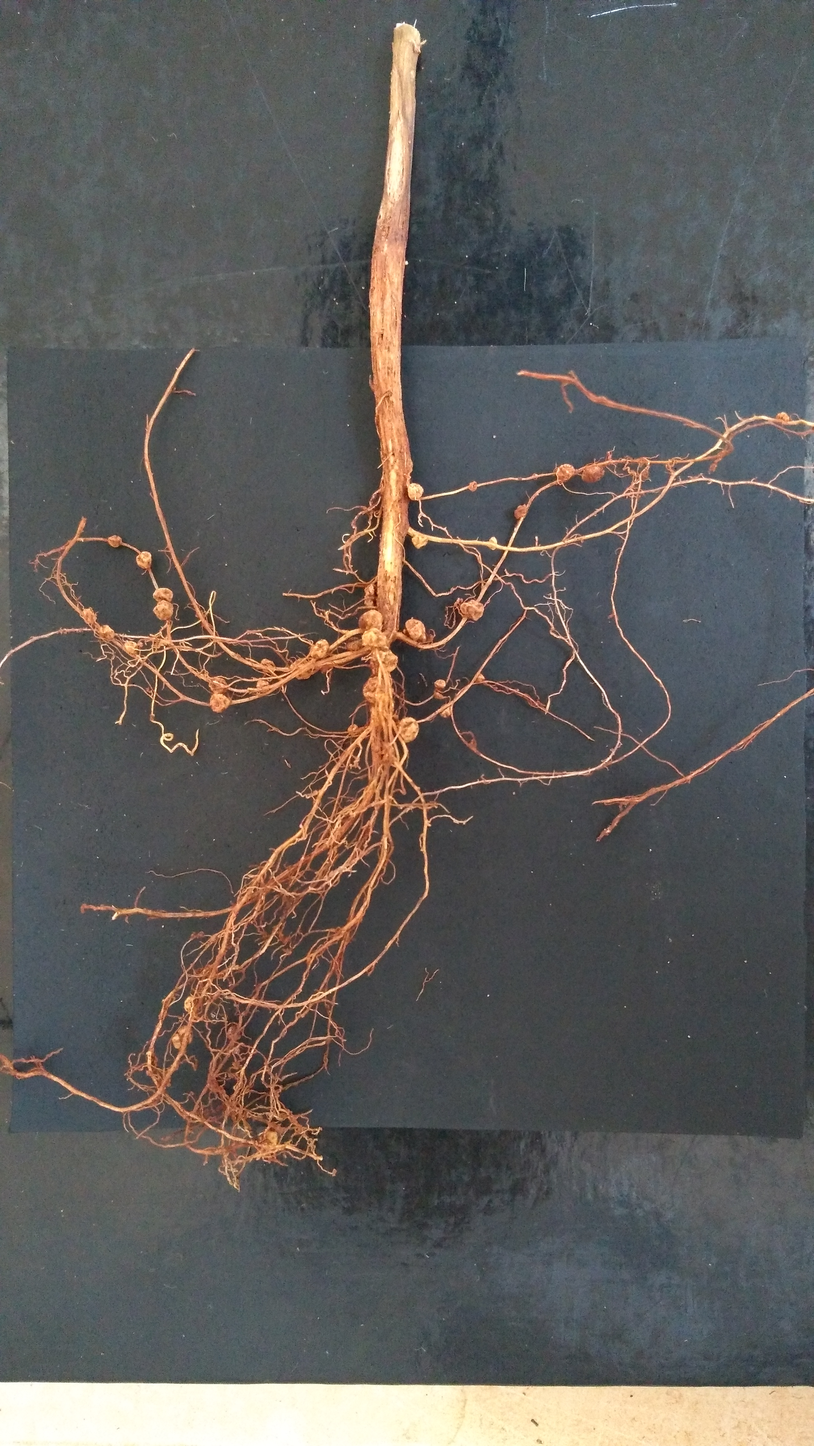nodule: (362, 676, 394, 703), (371, 645, 398, 674), (405, 618, 427, 645), (459, 599, 484, 622), (358, 610, 383, 633), (290, 657, 316, 679), (361, 627, 388, 648), (398, 716, 419, 743), (172, 1025, 193, 1048), (209, 693, 231, 713), (581, 464, 604, 483), (310, 639, 330, 660), (153, 600, 174, 620), (363, 583, 378, 610), (260, 1131, 278, 1151), (208, 677, 228, 695), (557, 463, 575, 482), (346, 631, 364, 650), (184, 995, 200, 1015), (136, 551, 152, 569), (153, 588, 173, 602), (145, 1052, 158, 1073), (407, 483, 423, 500), (98, 624, 115, 640), (412, 533, 428, 549), (226, 1024, 242, 1040), (82, 608, 97, 624), (123, 641, 138, 656), (261, 658, 275, 673), (514, 504, 527, 519), (439, 703, 452, 718), (256, 680, 270, 692), (108, 535, 122, 547), (776, 412, 790, 423), (276, 1111, 289, 1122), (347, 724, 359, 735), (202, 964, 212, 977), (488, 537, 497, 551), (473, 673, 485, 683), (434, 679, 445, 689), (468, 481, 477, 491), (232, 1061, 240, 1070), (196, 931, 204, 938), (232, 1047, 240, 1054), (211, 1013, 215, 1018), (166, 1083, 171, 1087)
